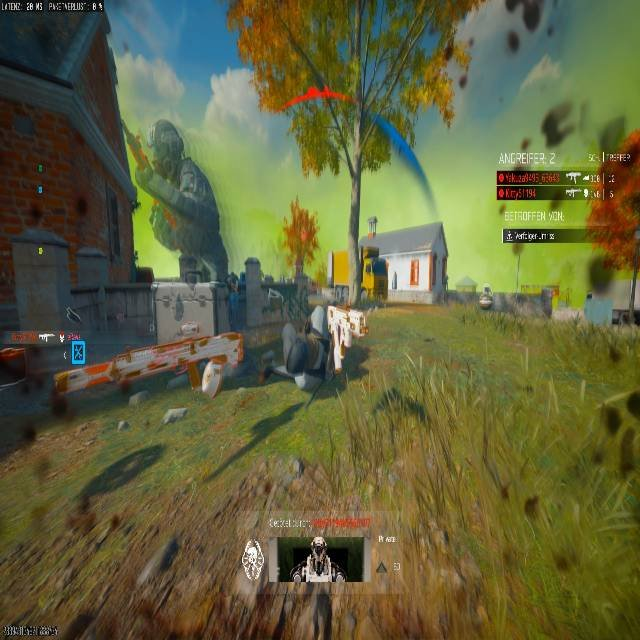player: (289, 537, 344, 640), (224, 271, 238, 293)
